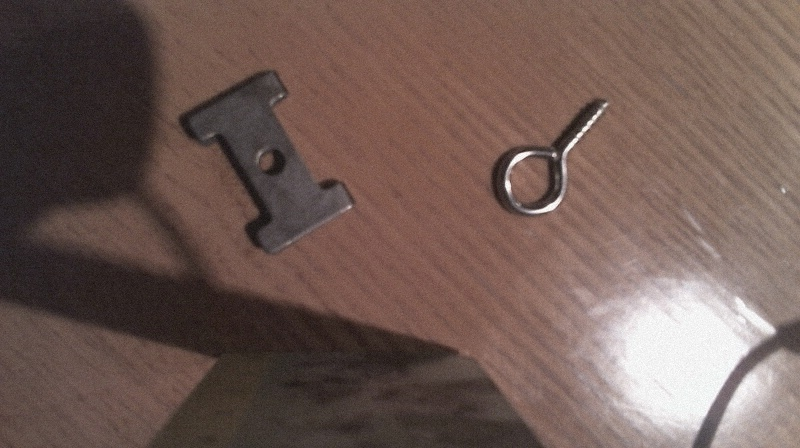O001: (494, 91, 611, 219)
O002: (181, 66, 358, 255)
